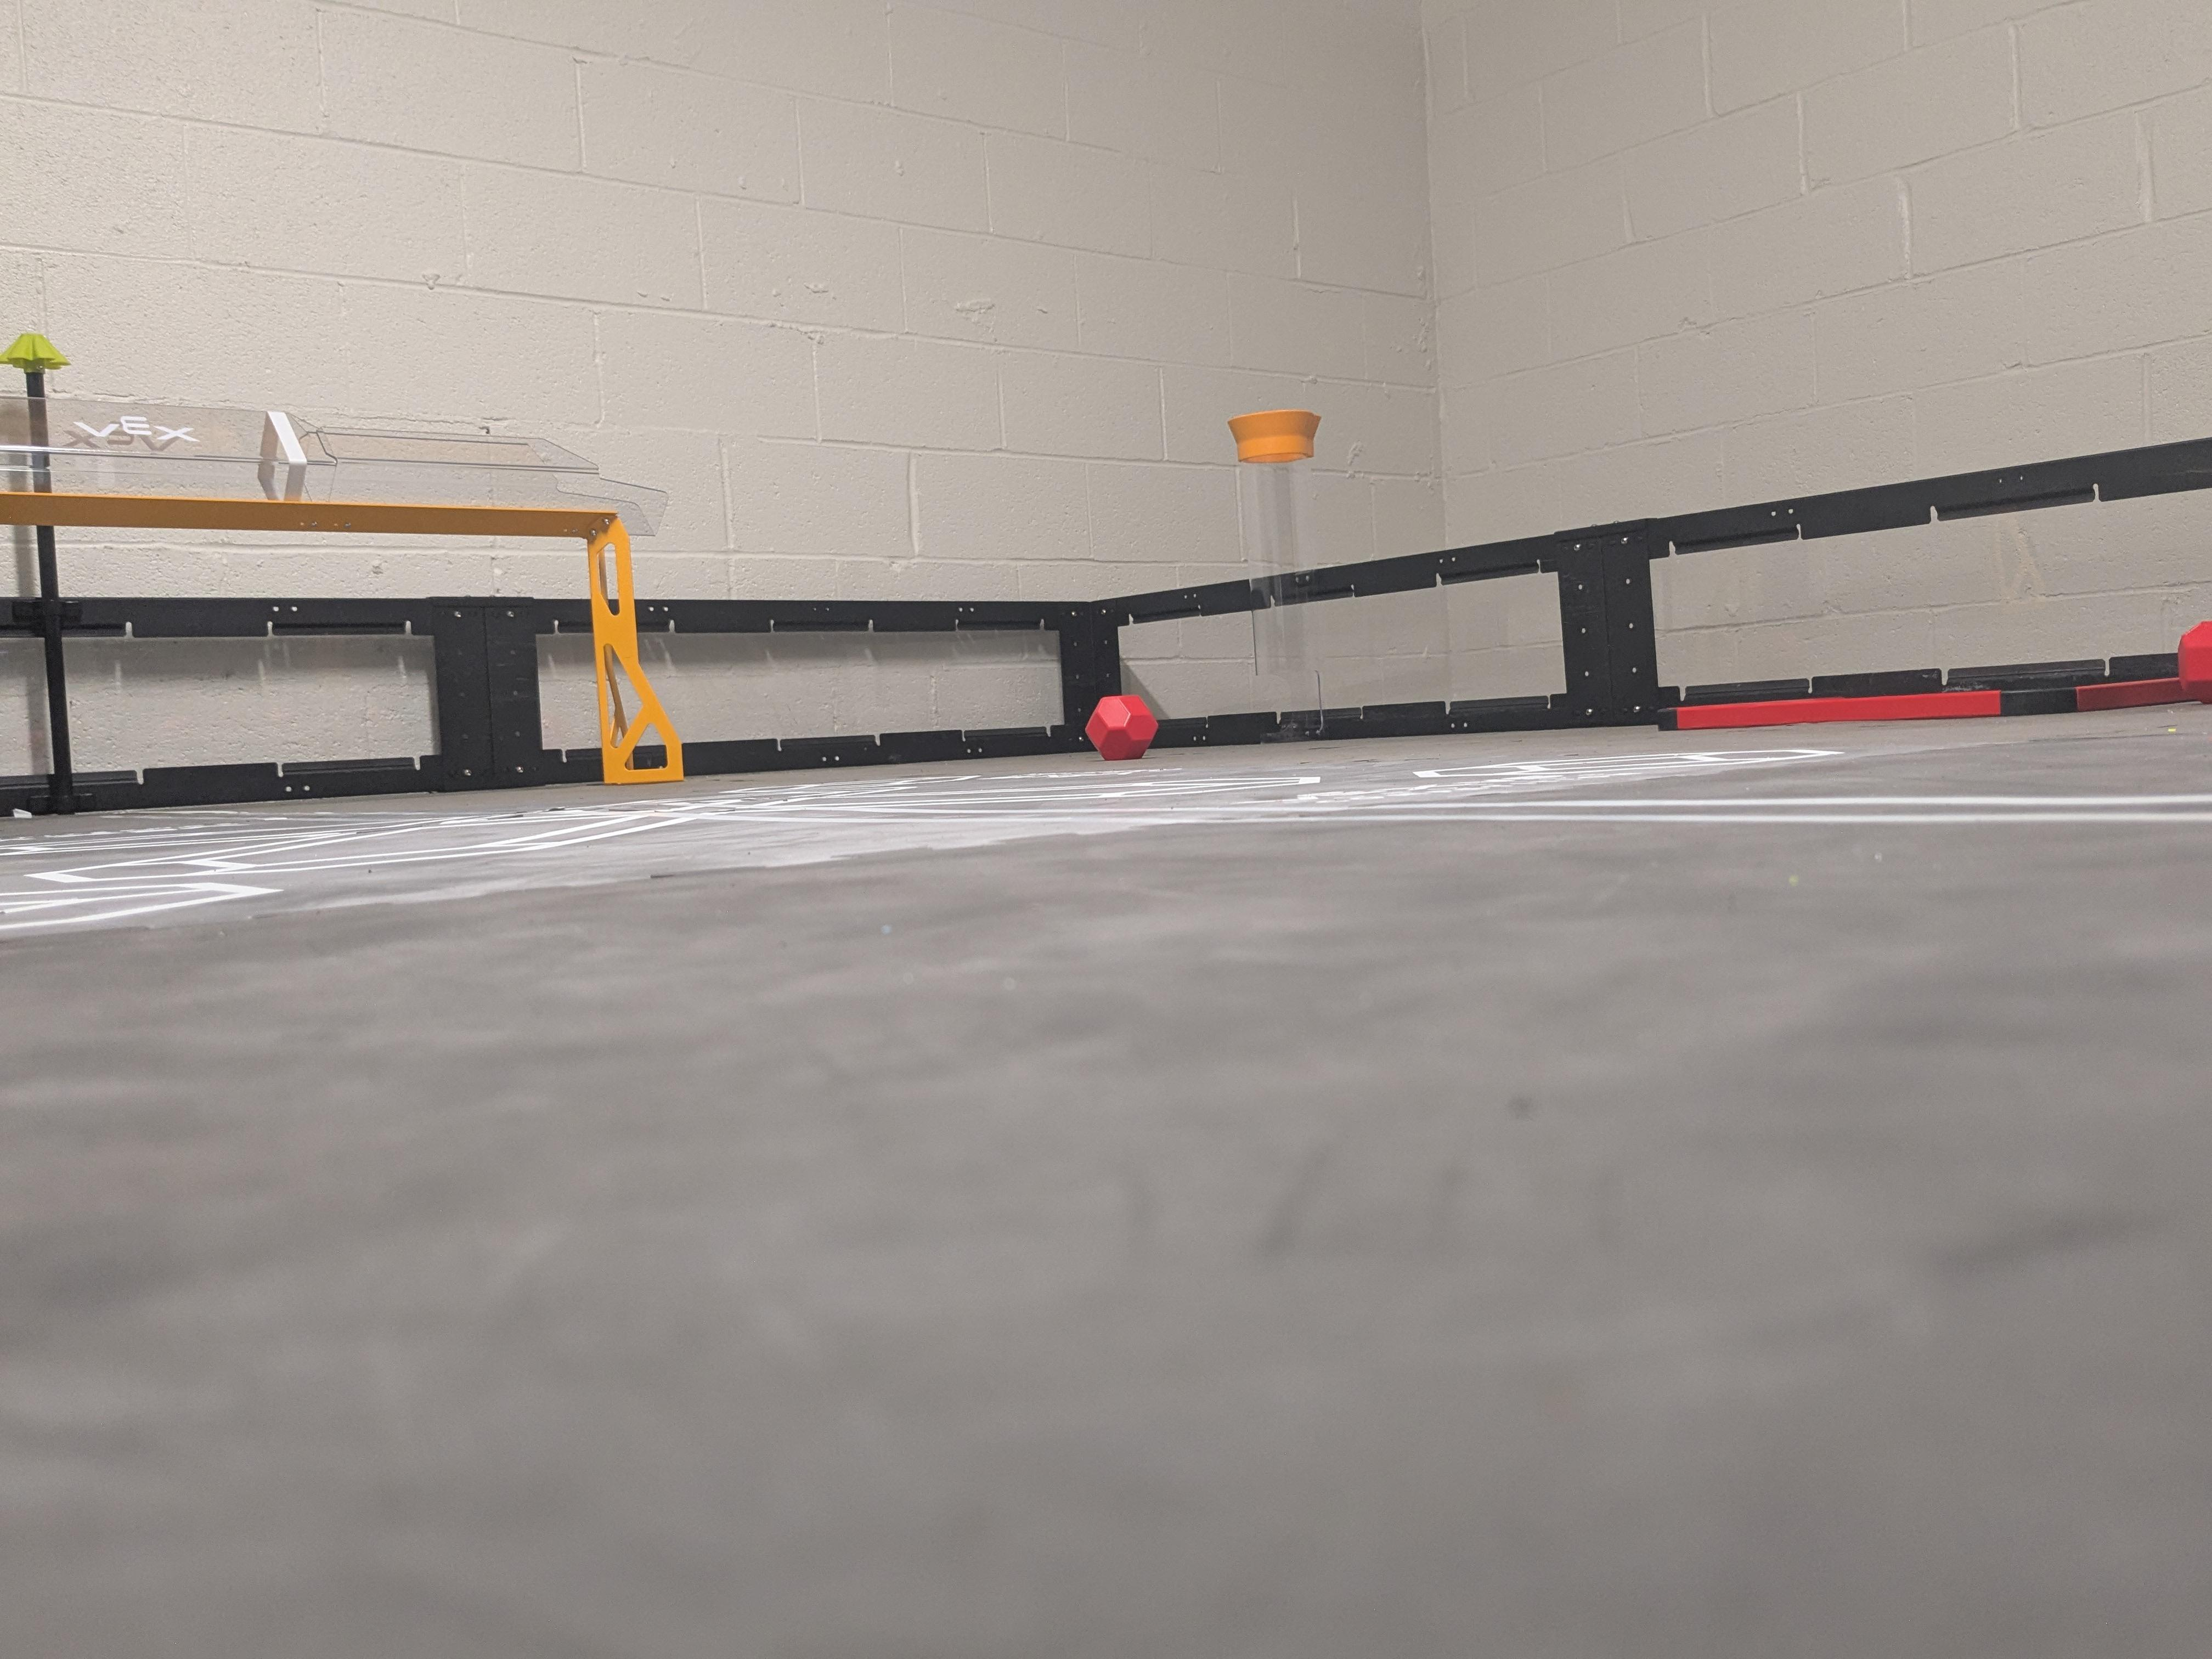Vex-Pieces-RED: (1085, 694, 1160, 760), (2177, 620, 2212, 704)
